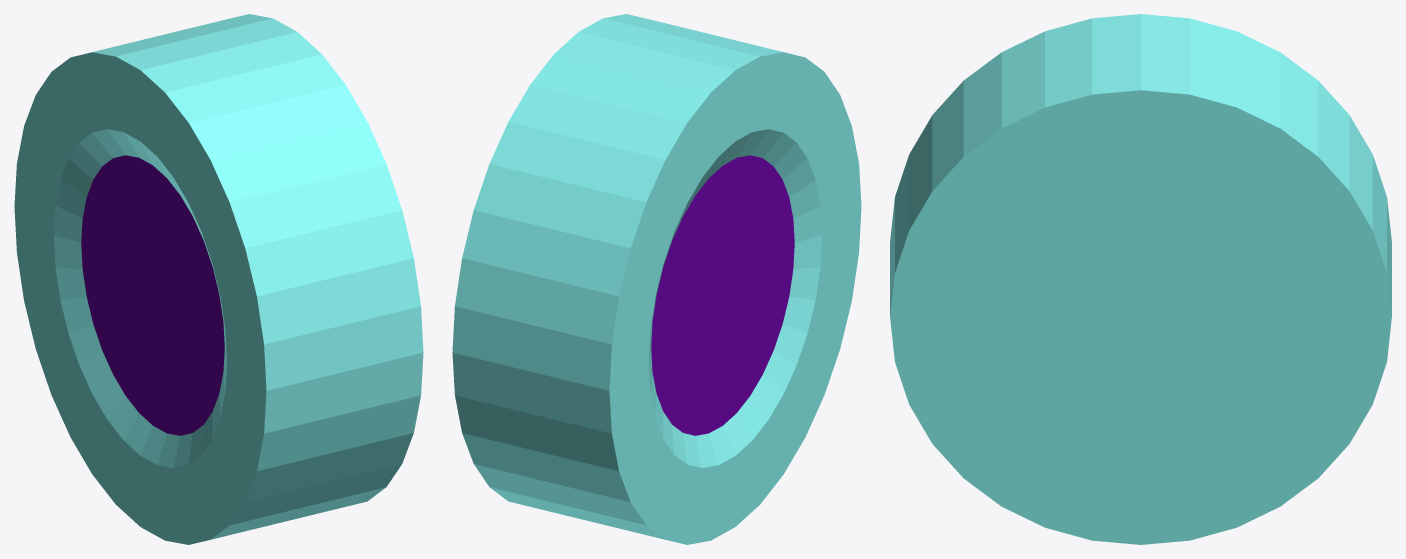
Rendered from countach_wheel_textured.fbx.
The picture shows the model from 3 angles, left to right: view 1: azimuth 30°, elevation 25°; view 2: azimuth 150°, elevation 25°; view 3: azimuth 270°, elevation 25°; orthographic projection.
Parts seen in each view (by area): view 1: wheel_FL; view 2: wheel_FL; view 3: wheel_FL.
Boxes of the visible parts, box(x1,y1,x2,y2) form: wheel_FL: box(14, 14, 423, 544); wheel_FL: box(452, 14, 861, 544); wheel_FL: box(890, 14, 1391, 544).
Size of the model in its own units: 710 by 1975 by 1975.
Materials: 1 (1 with a texture image).
